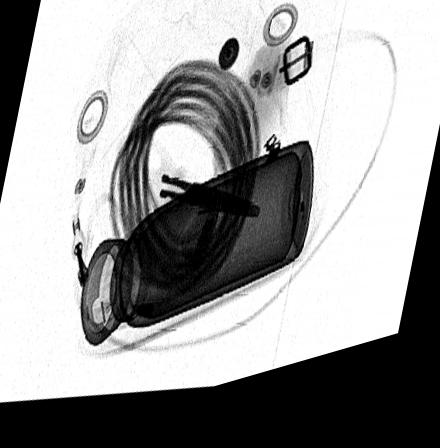Scissors: (107, 128, 263, 242)
